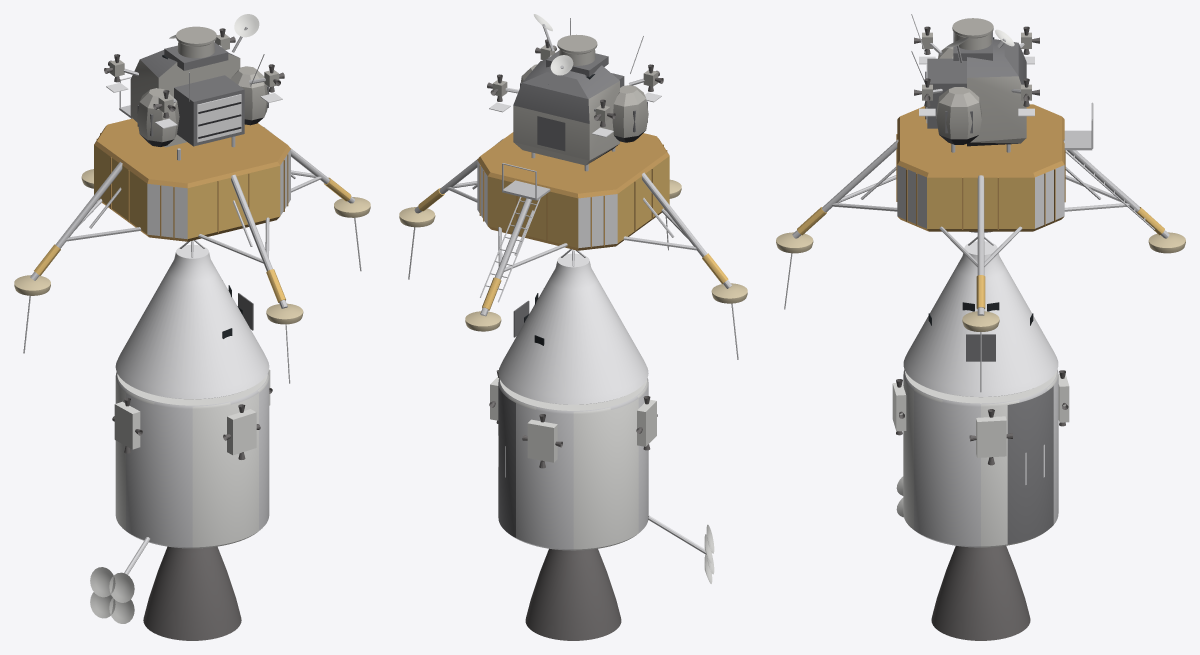
Rendered from apollo.glb.
The picture shows the model from 3 angles, left to right: view 1: azimuth 30°, elevation 25°; view 2: azimuth 150°, elevation 25°; view 3: azimuth 270°, elevation 25°; orthographic projection. The views are drawn at different scales.
Parts seen in each view (by area): view 1: SM, LMDescent, CM, LMAscent, Leg3, Leg2, Leg0; view 2: SM, LMDescent, CM, LMAscent, Leg1, Leg2, Leg0; view 3: SM, LMDescent, CM, LMAscent, Leg3, Leg1, Leg0.
Boxes of the visible parts, <box> form: SM: <box>90,369,272,640</box>; LMDescent: <box>94,76,290,241</box>; CM: <box>115,240,269,399</box>; LMAscent: <box>104,14,284,160</box>; Leg3: <box>198,174,303,383</box>; Leg2: <box>14,162,141,353</box>; Leg0: <box>264,127,370,271</box>; SM: <box>489,370,714,640</box>; LMDescent: <box>477,132,669,250</box>; CM: <box>498,249,648,404</box>; LMAscent: <box>487,14,663,171</box>; Leg1: <box>465,196,567,331</box>; Leg2: <box>623,172,747,359</box>; Leg0: <box>399,138,503,279</box>; SM: <box>892,369,1069,640</box>; LMDescent: <box>896,102,1093,232</box>; CM: <box>903,236,1058,397</box>; LMAscent: <box>911,14,1039,152</box>; Leg3: <box>776,139,898,309</box>; Leg1: <box>1063,139,1185,253</box>; Leg0: <box>939,175,1022,392</box>.
Bounding box in the file's own units: 10.34 × 16.86 × 10.34.
